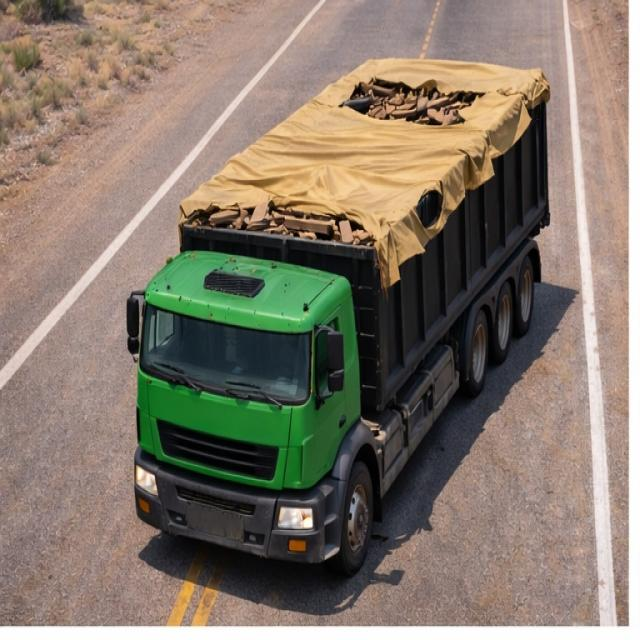trailer: (165, 55, 556, 249)
truck: (123, 41, 565, 567)
